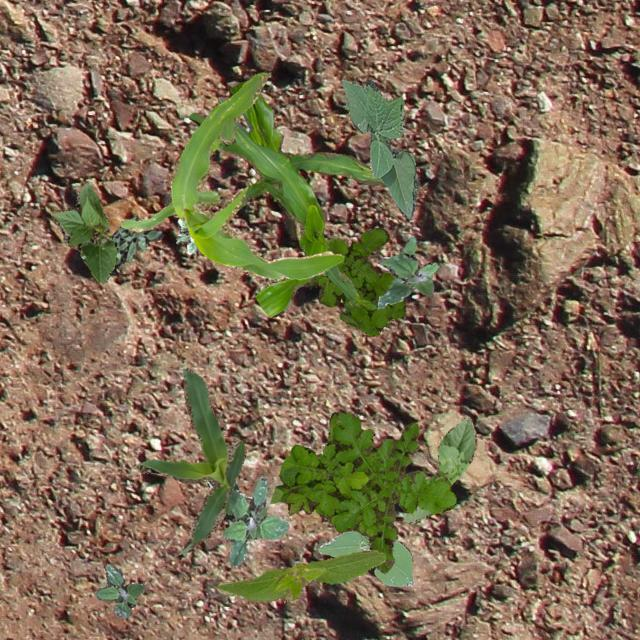crop: (188, 80, 386, 316), (120, 72, 342, 278), (136, 366, 246, 554), (339, 78, 418, 218), (216, 548, 384, 602), (402, 414, 476, 522), (50, 182, 116, 282), (316, 530, 414, 586), (206, 480, 238, 490)
weed: (270, 412, 454, 572), (302, 226, 404, 334), (222, 476, 288, 566), (376, 235, 436, 308), (94, 564, 144, 616), (110, 226, 162, 264), (176, 216, 197, 252)
